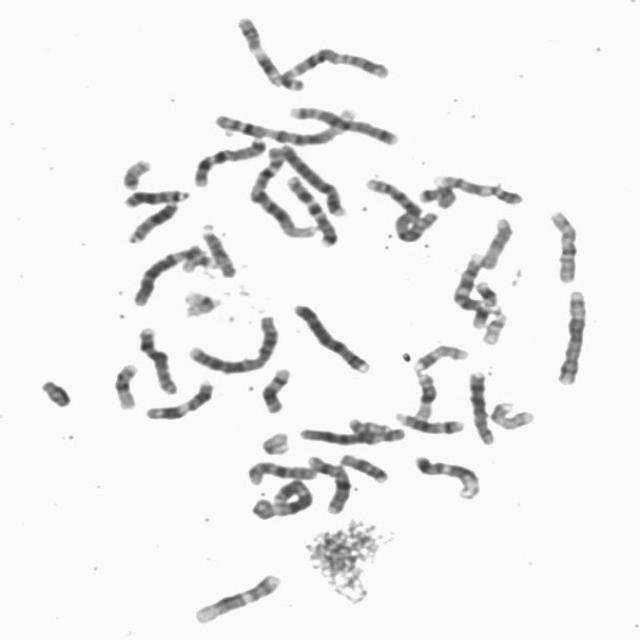A1: (242, 138, 322, 240), (210, 100, 360, 145)
A2: (182, 309, 282, 376), (360, 171, 440, 244)
A3: (272, 41, 393, 91), (245, 473, 316, 521)
B4: (288, 296, 373, 376), (272, 138, 349, 218)
B5: (282, 100, 402, 145), (550, 284, 590, 387)
C10: (543, 203, 582, 285), (242, 456, 320, 486)
C11: (230, 10, 306, 91), (138, 374, 218, 422)
C12: (188, 566, 284, 625), (408, 449, 483, 500)
C6: (128, 240, 212, 307), (294, 421, 409, 446)
C7: (280, 169, 342, 247), (188, 132, 270, 188)
C8: (132, 321, 181, 395), (462, 366, 499, 446)
C9: (430, 168, 527, 206), (448, 248, 489, 311)
D13: (122, 194, 182, 244), (117, 182, 193, 208)
D14: (389, 406, 468, 436), (255, 362, 294, 415)
D15: (195, 217, 239, 279), (474, 211, 516, 270)
E16: (406, 366, 440, 422), (108, 357, 142, 411)
E17: (408, 338, 471, 372), (484, 396, 538, 432)
E18: (333, 448, 391, 484), (413, 180, 460, 210)
F19: (178, 288, 230, 316), (258, 429, 291, 458)
F20: (116, 153, 154, 191), (345, 416, 389, 447)
G21: (470, 276, 500, 308), (467, 300, 495, 330)
G22: (476, 306, 510, 345), (175, 240, 208, 274)
X: (300, 449, 354, 515)
Y: (34, 372, 75, 408)
